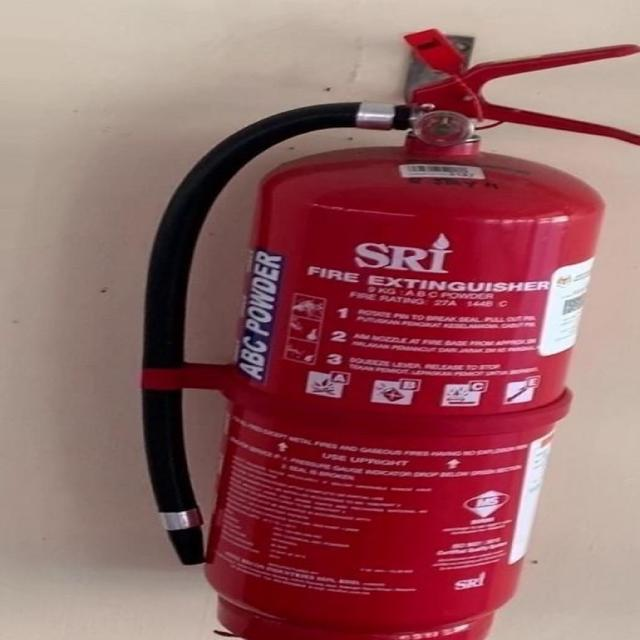fire_extinguisher: (125, 25, 639, 639)
